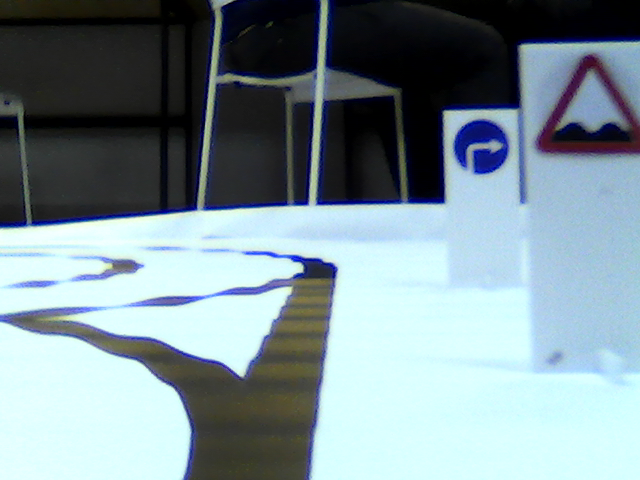Nerov: (539, 50, 639, 162)
